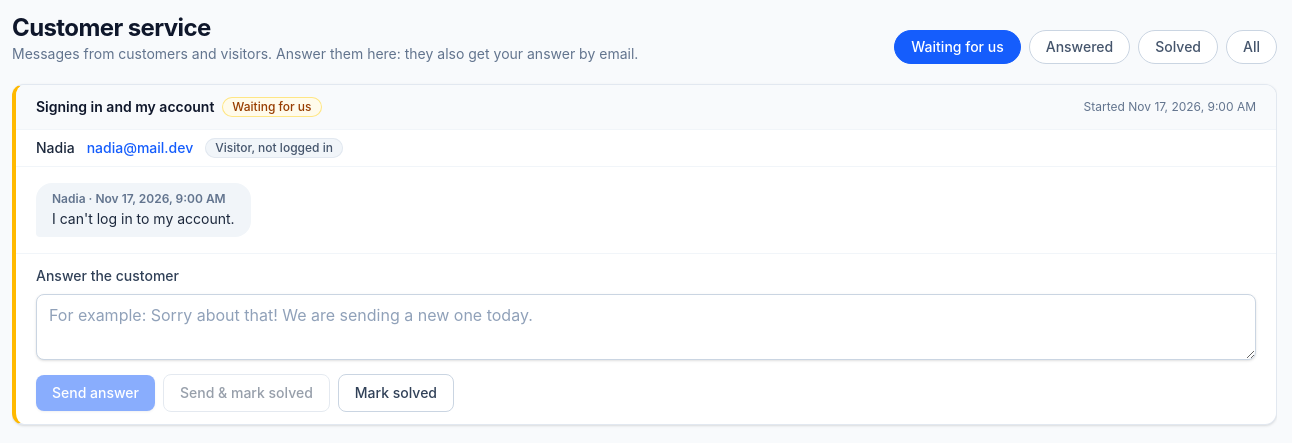
Test: Mark solved works without writing, and the filters ask for other conversations
Click the button "Mark solved": (396, 393) x1=338 y1=374 x2=454 y2=412
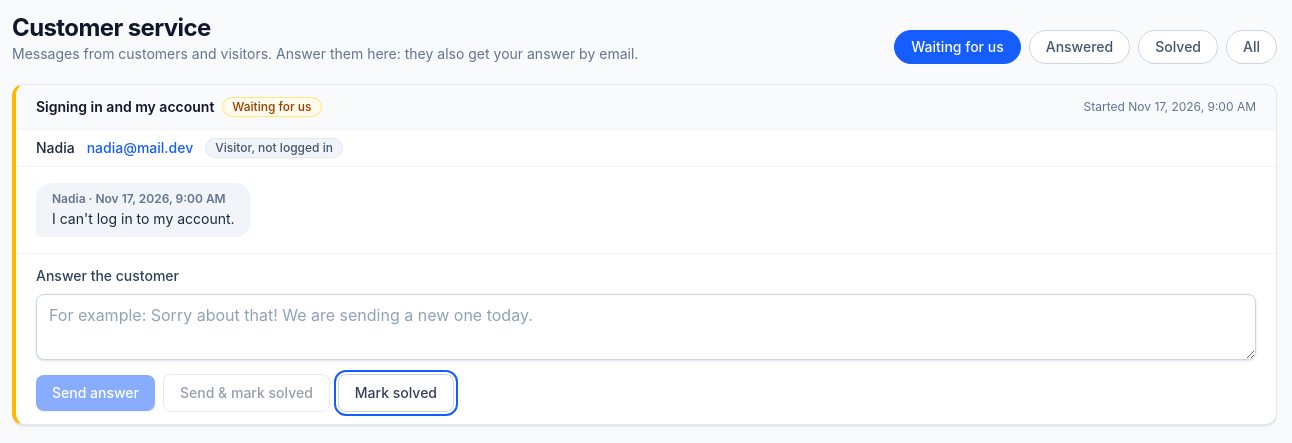
Click the button "Solved": (1178, 47) x1=1138 y1=30 x2=1218 y2=64
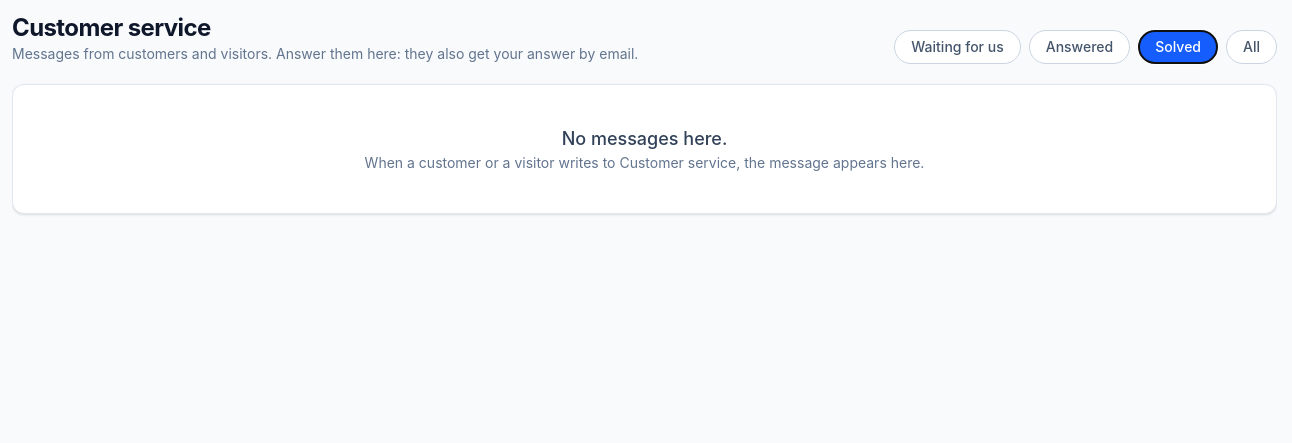
Expected: the text "No messages here." is shown, x1=562 y1=128 x2=727 y2=149
